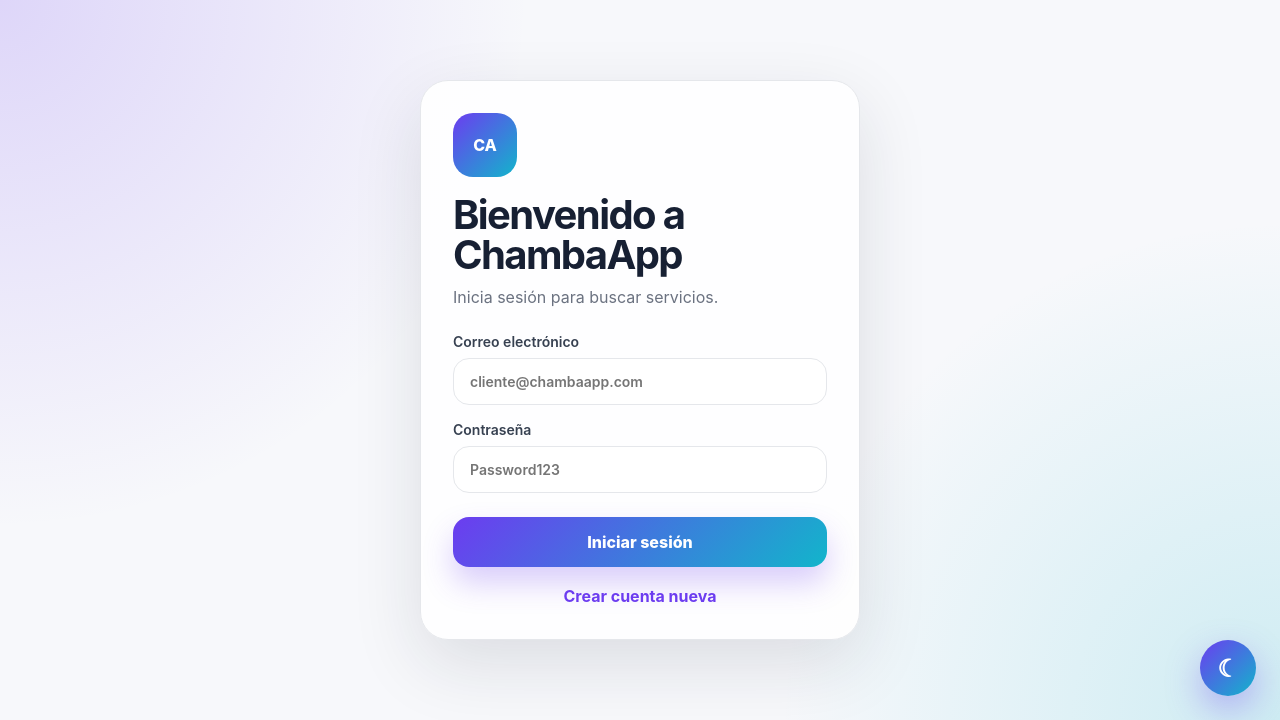
Test case: Flujos de Error Críticos — Autenticación › login con credenciales incorrectas debe mostrar mensaje de error en UI
Type "usuario@test.com" into the field labelled "Correo electrónico".
click(640, 382); type("usuario@test.com")  # box [453,358,827,405]
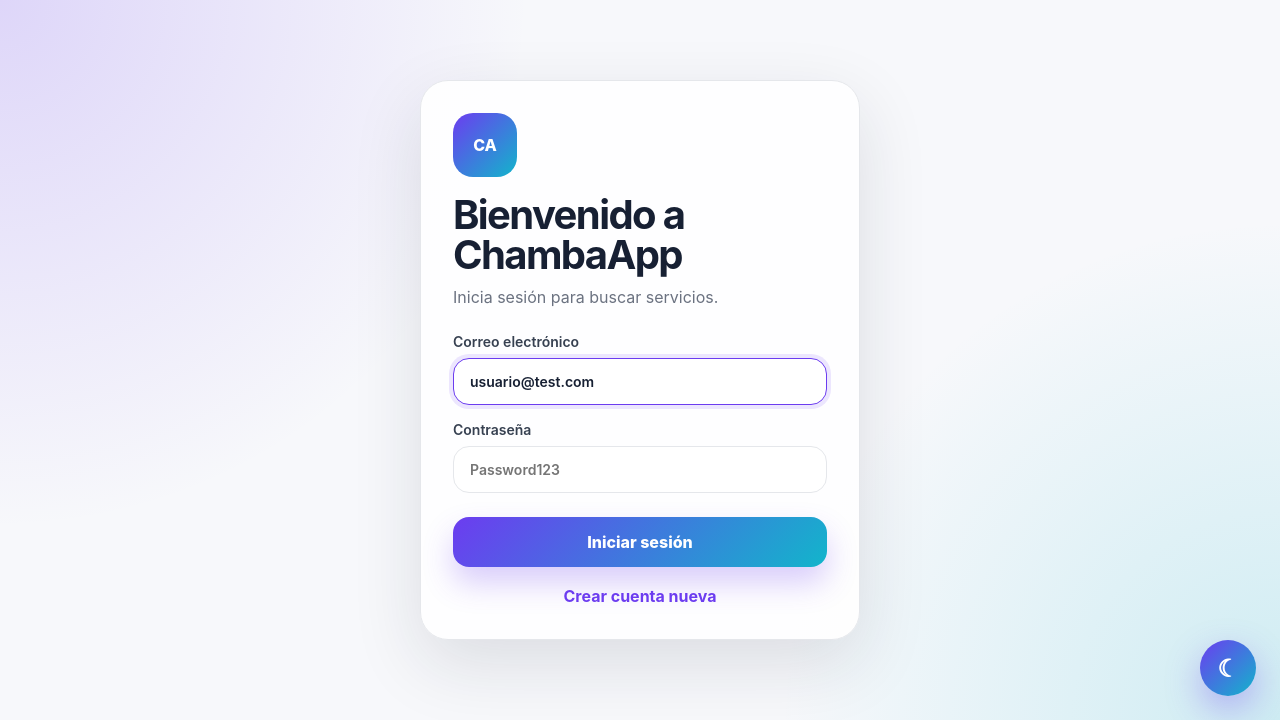
Type "ClaveIncorrecta123" into the password field labelled "Contraseña".
click(640, 470); type("ClaveIncorrecta123")  # box [453,446,827,493]
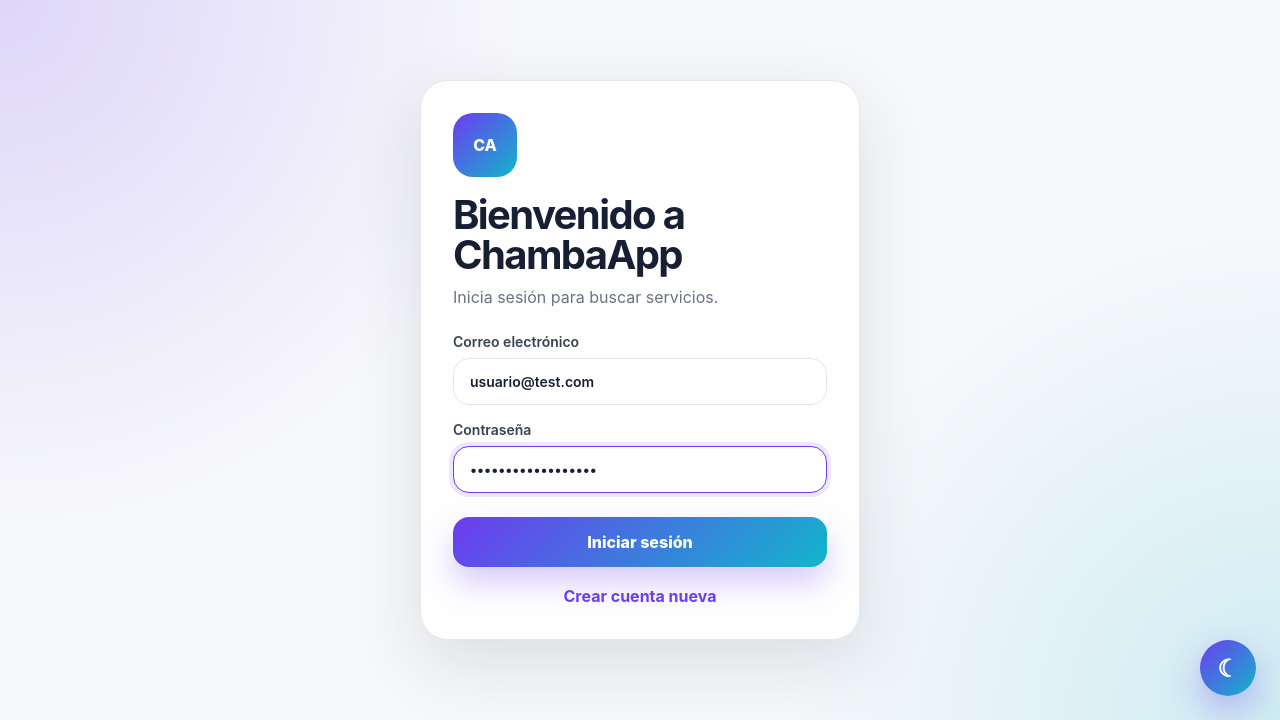
Click the button "Iniciar sesión".
click(640, 542)  # box [453,517,827,567]
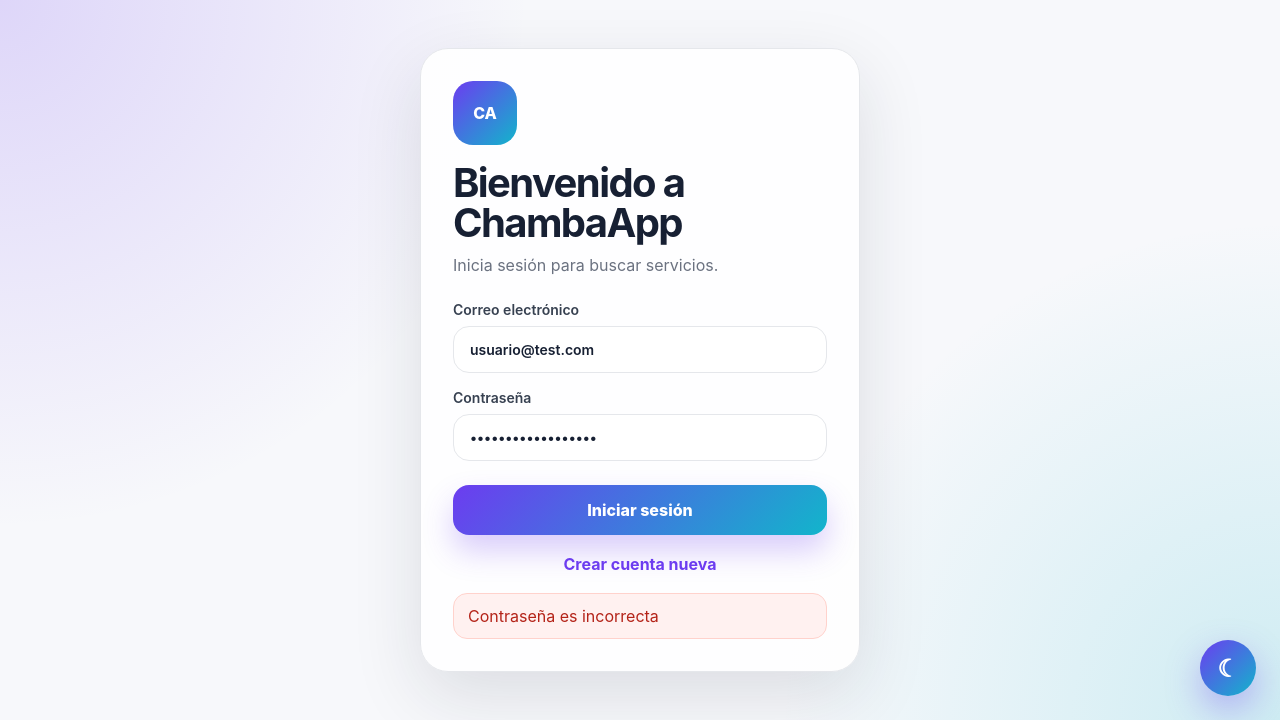
Check: the text "Contraseña es incorrecta" is shown, box [453,593,827,639]
